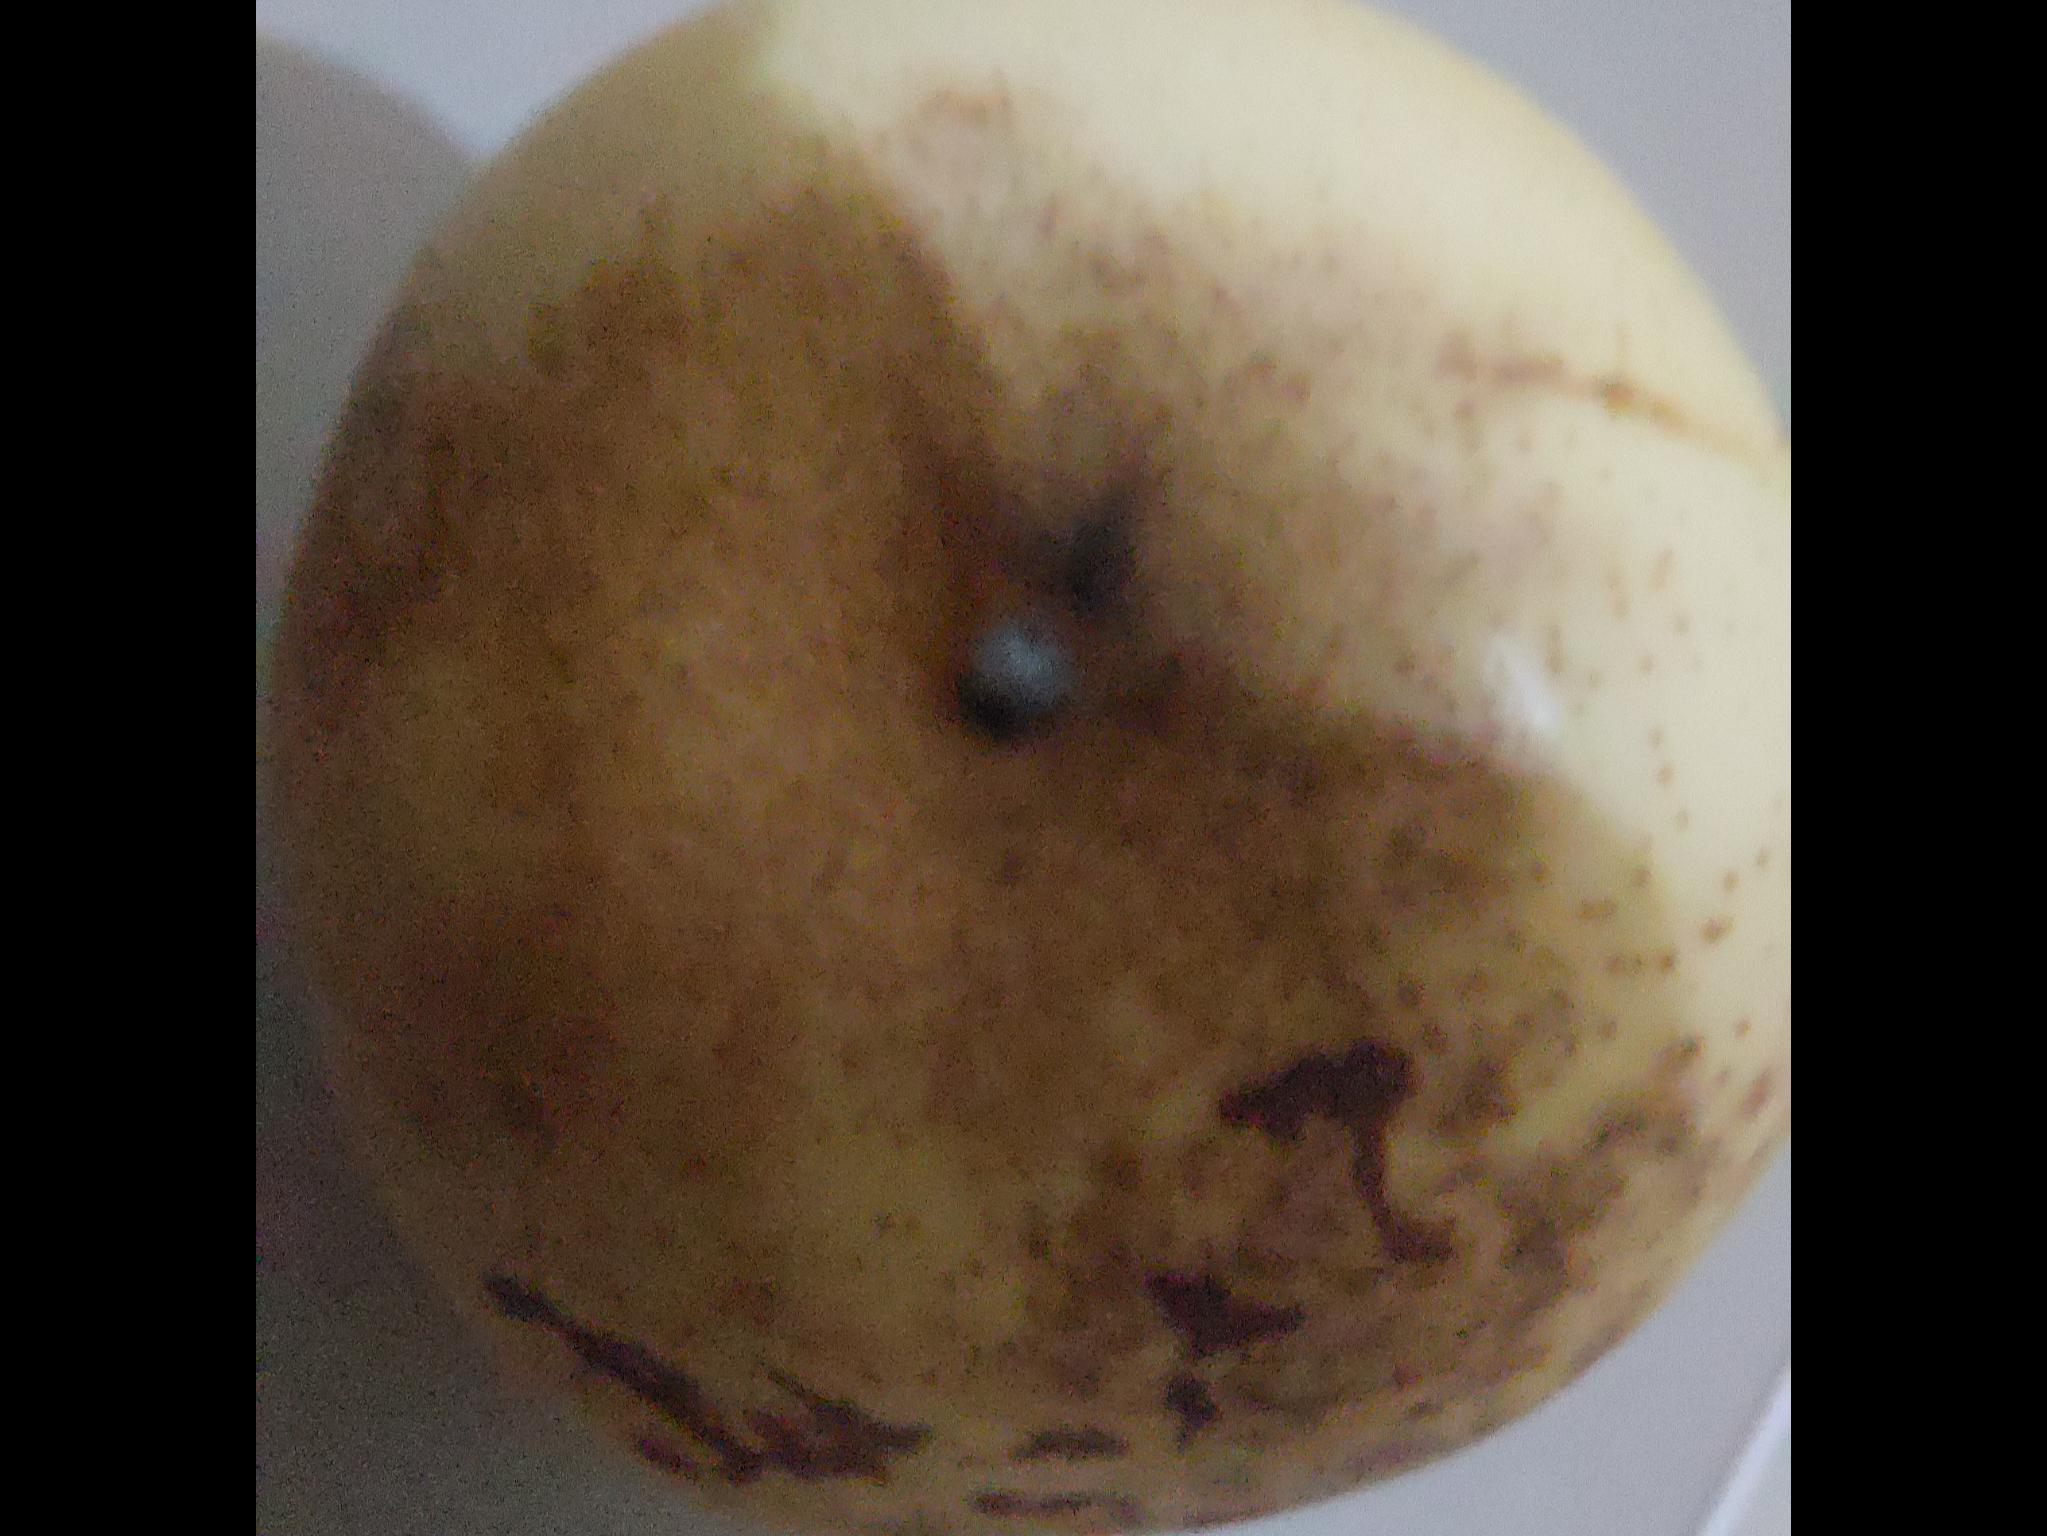Bad Pear: (290, 0, 1792, 1536)
